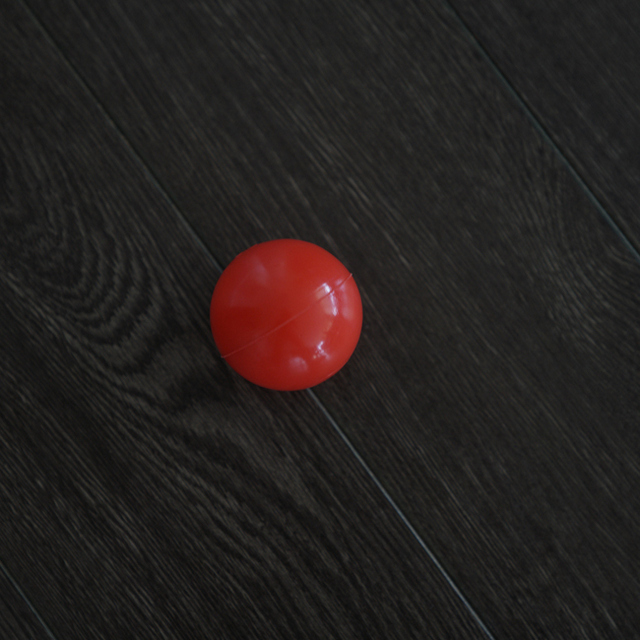Ball: (213, 243, 365, 391)
